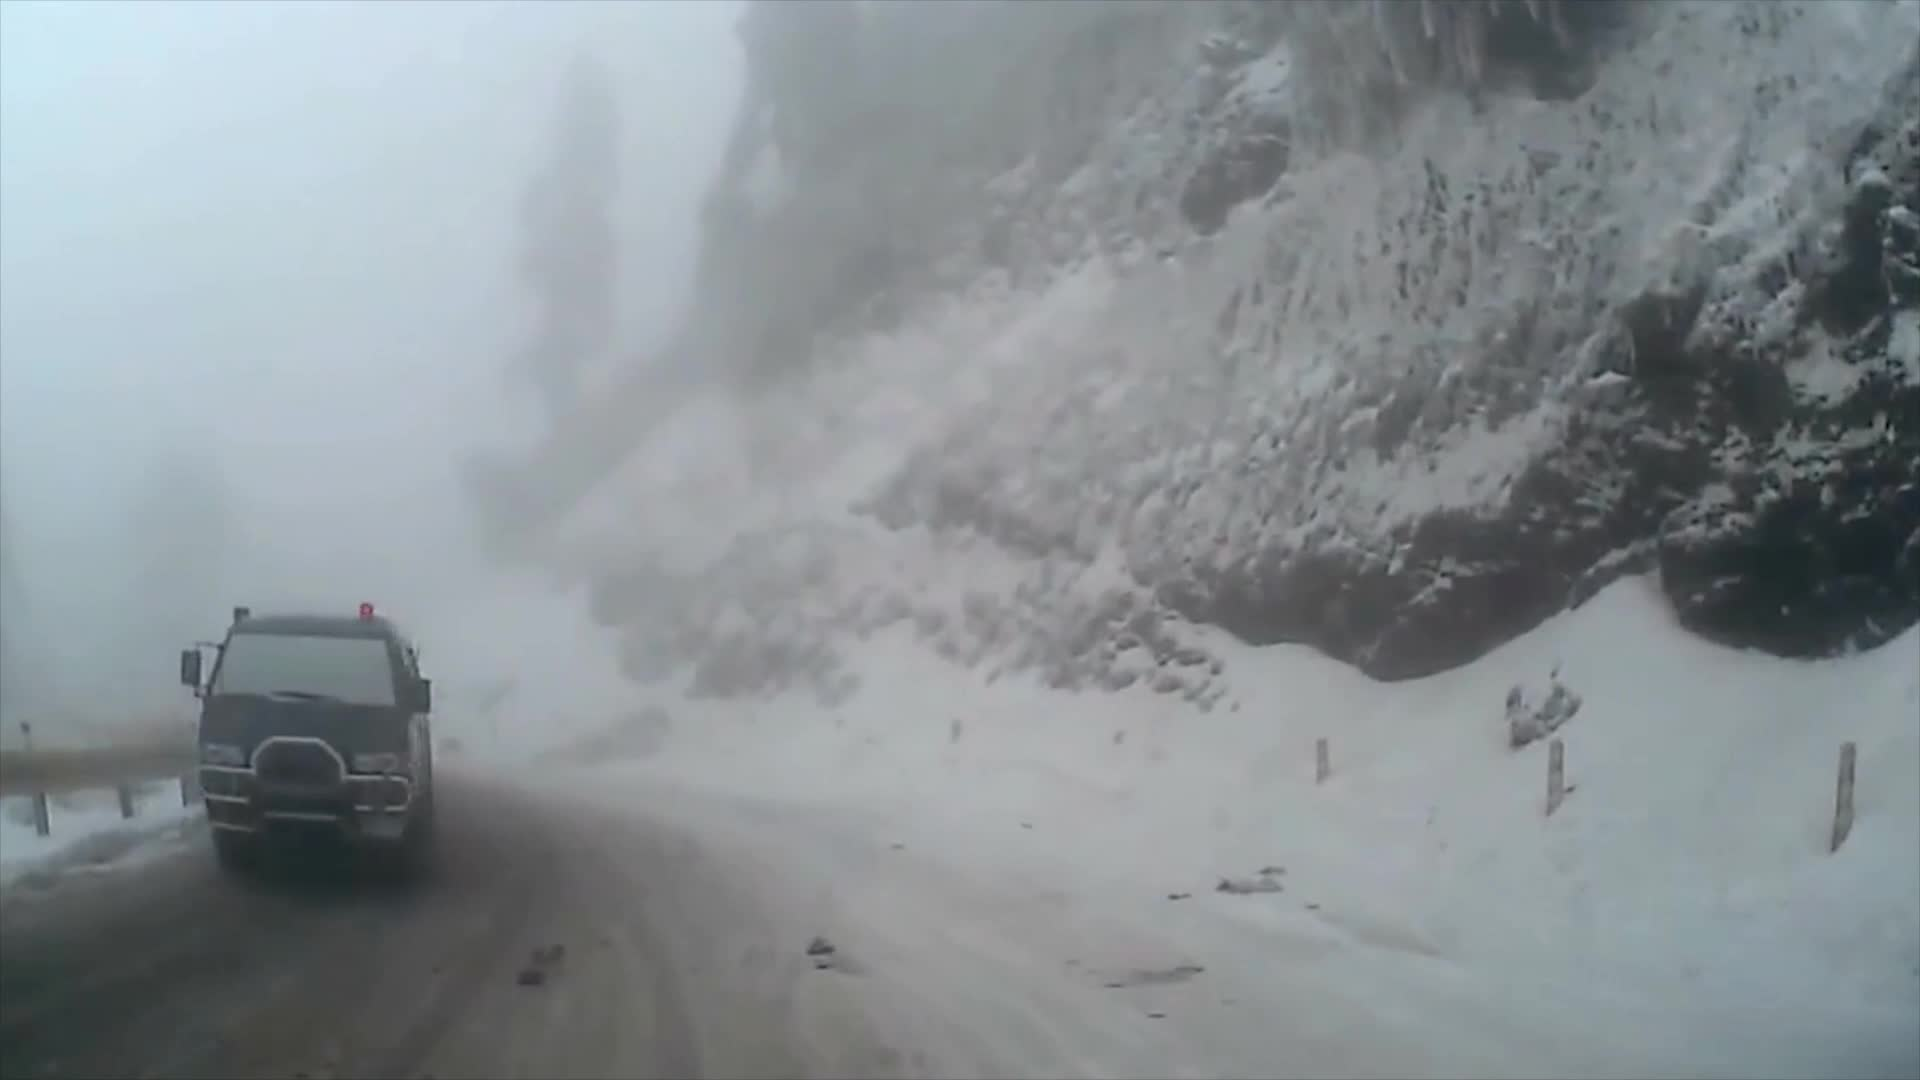vehicle: (177, 597, 435, 884)
